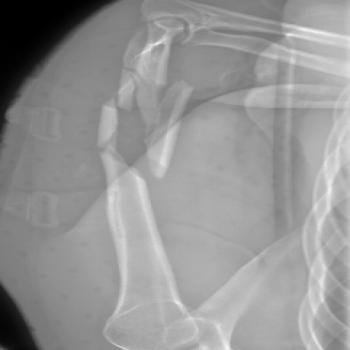Fracture: (86, 70, 199, 188)
